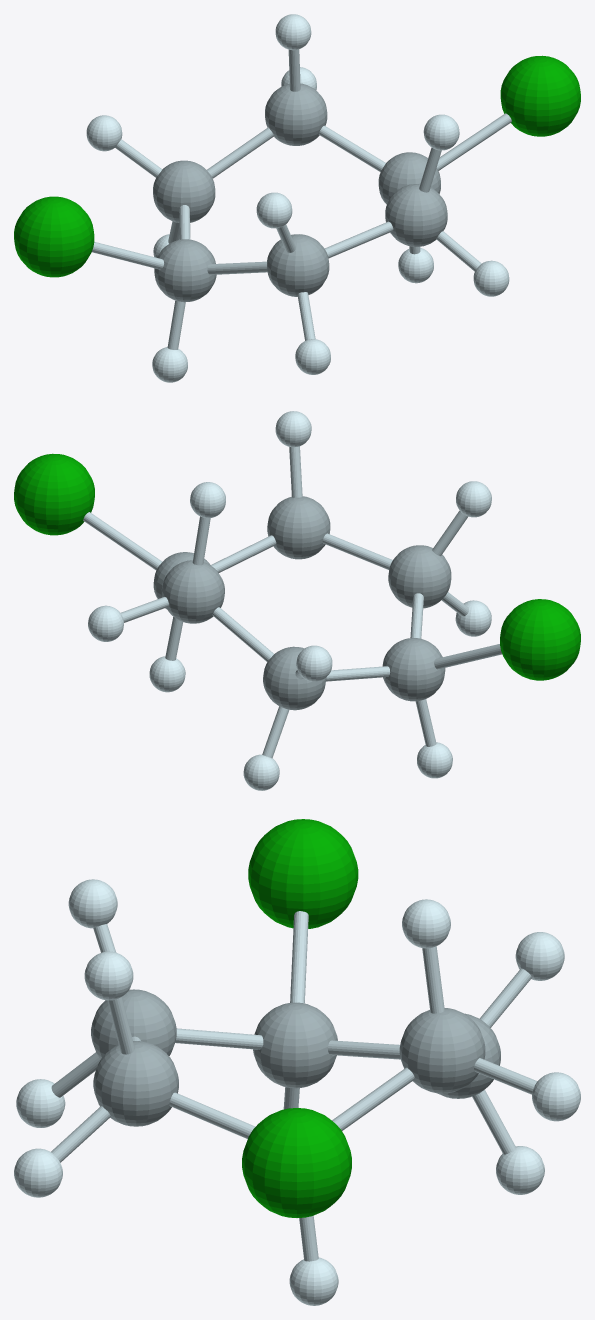
The model's file is irc_step_076.glb.
3 views of the same model, one above another, from view 1: azimuth 30°, elevation 25°; view 2: azimuth 150°, elevation 25°; view 3: azimuth 270°, elevation 25° (orthographic). The views are drawn at different scales.
Parts seen in each view (by area): view 1: Renderer Node; view 2: Renderer Node; view 3: Renderer Node.
Part boxes in pixels (<box>): Renderer Node: <box>14,14,580,382</box>; Renderer Node: <box>14,411,580,790</box>; Renderer Node: <box>14,819,580,1305</box>.
Size of the model in its own units: 7.1 by 3.49 by 4.62.
